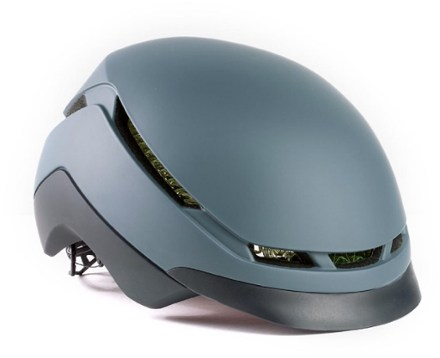with_helmet: (30, 32, 424, 338)
